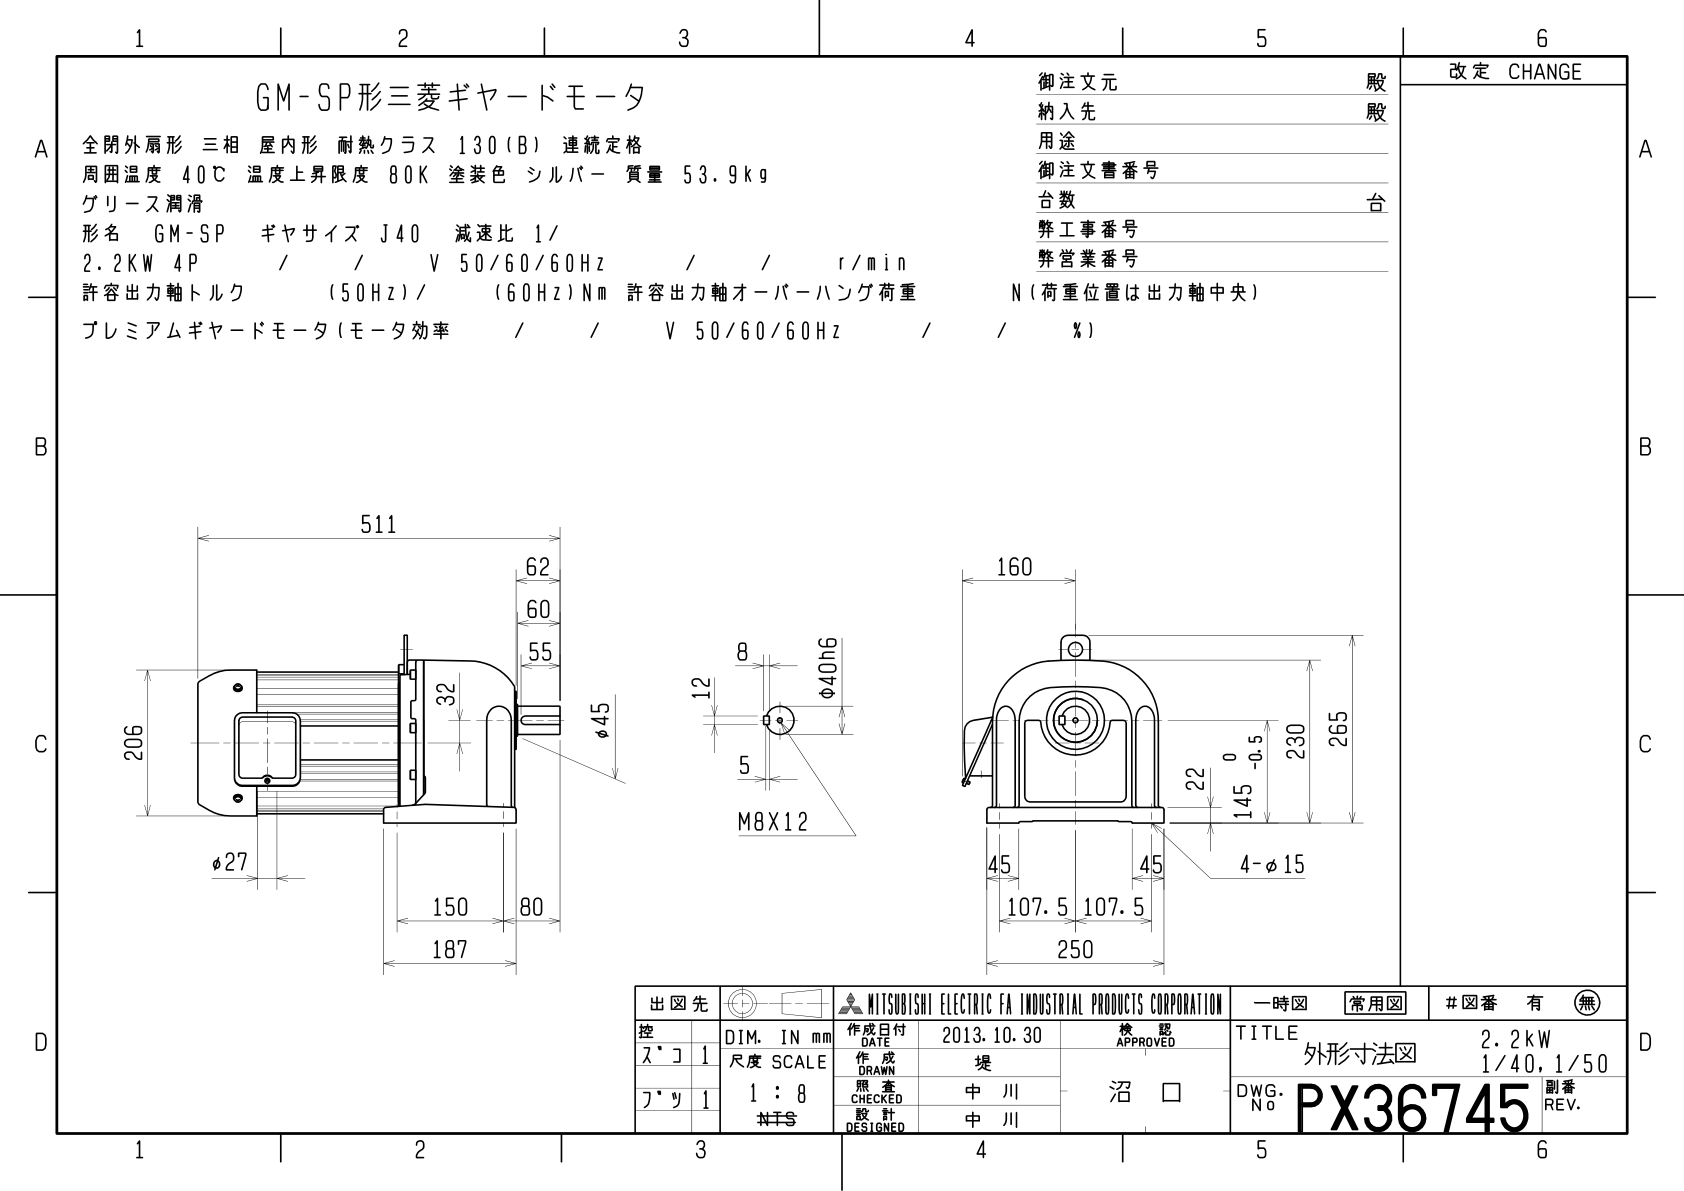GM_SP_屋内_三相_脚: (9, 10, 1684, 1191)
